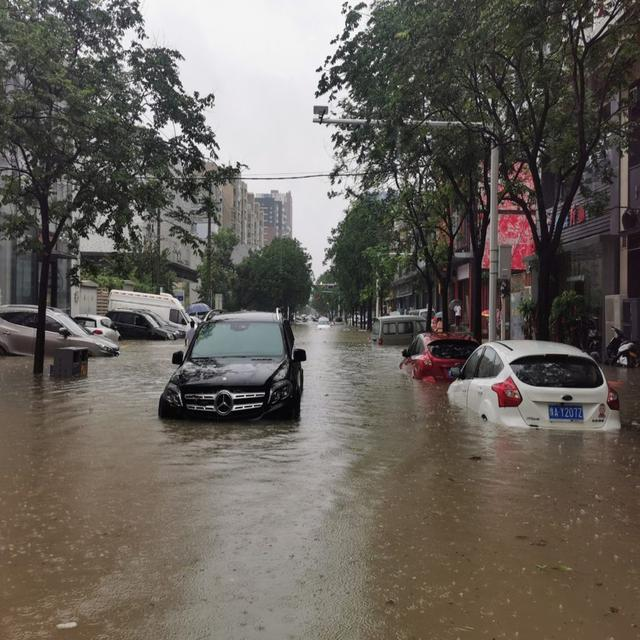Car-RiskLevel3: (145, 299, 309, 428), (443, 335, 635, 442), (399, 329, 488, 381)
